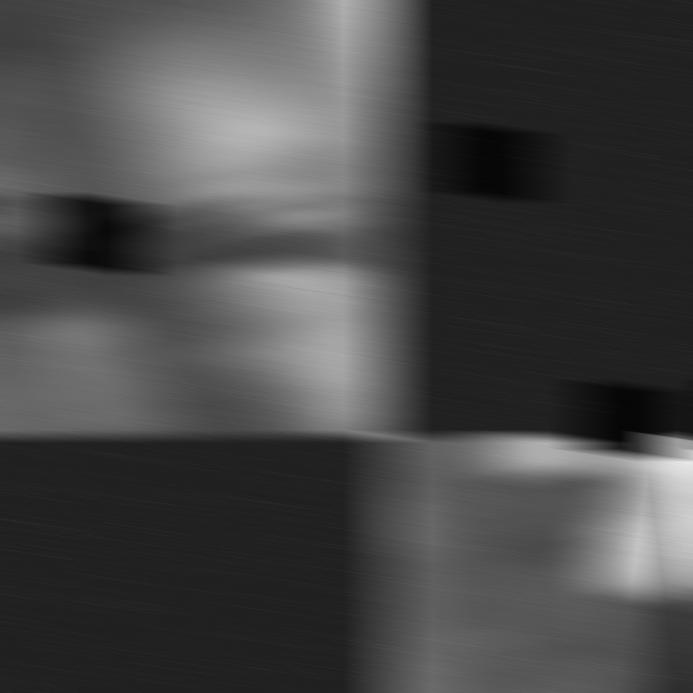Airbag: (0, 0, 399, 437), (377, 434, 693, 693)
